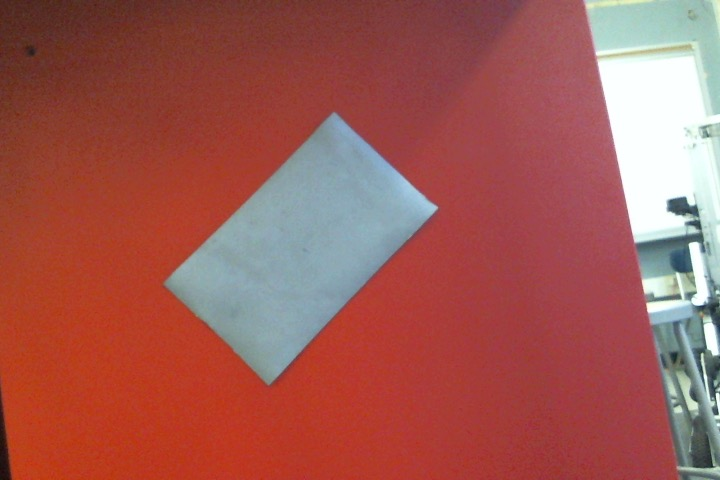Tape: (162, 112, 439, 388)
